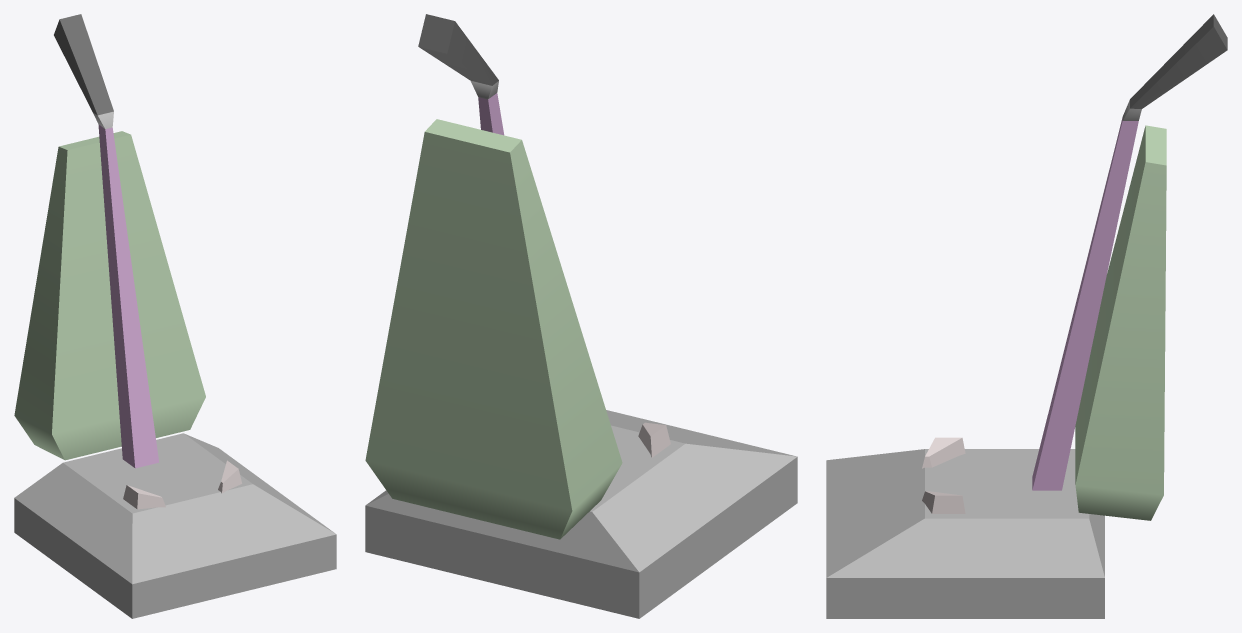
Rendered from Vaccum.fbx.
The picture shows the model from 3 angles, left to right: view 1: azimuth 30°, elevation 25°; view 2: azimuth 150°, elevation 25°; view 3: azimuth 270°, elevation 25°; orthographic projection. The views are drawn at different scales.
Visible parts, largest first — view 1: polySurface7; view 2: polySurface7; view 3: polySurface7.
Boxes of the visible parts, left/top/right/bottom form: polySurface7: left=14, top=14, right=336, bottom=618; polySurface7: left=365, top=14, right=797, bottom=618; polySurface7: left=826, top=14, right=1227, bottom=618.
Bounding box in the file's own units: 4.38 × 9.36 × 6.31.
